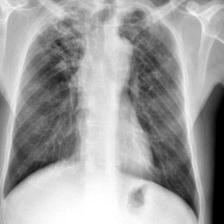tuberculosis: (1, 2, 204, 221)
